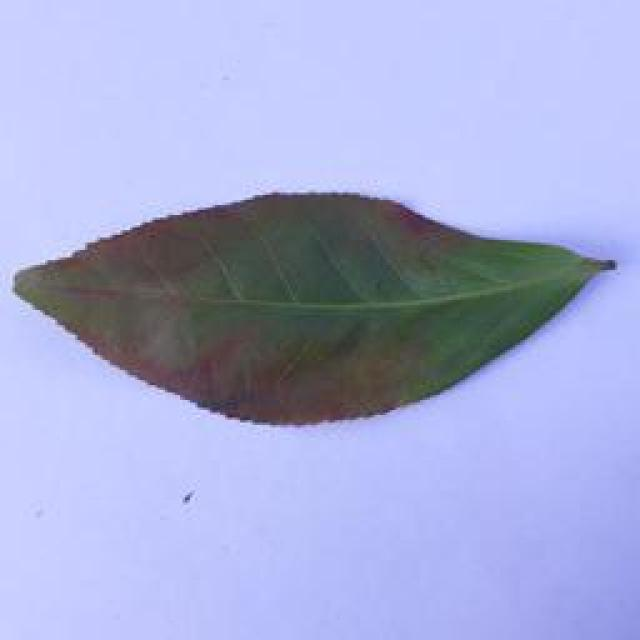Red Leaf Spot: (0, 155, 628, 424)
